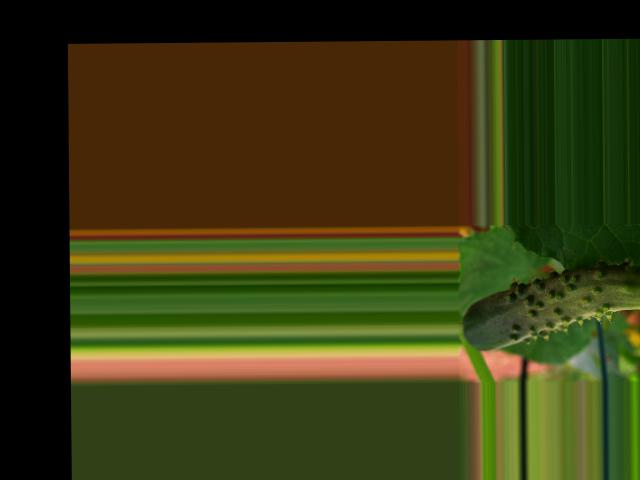cucumber: (460, 260, 640, 350)
